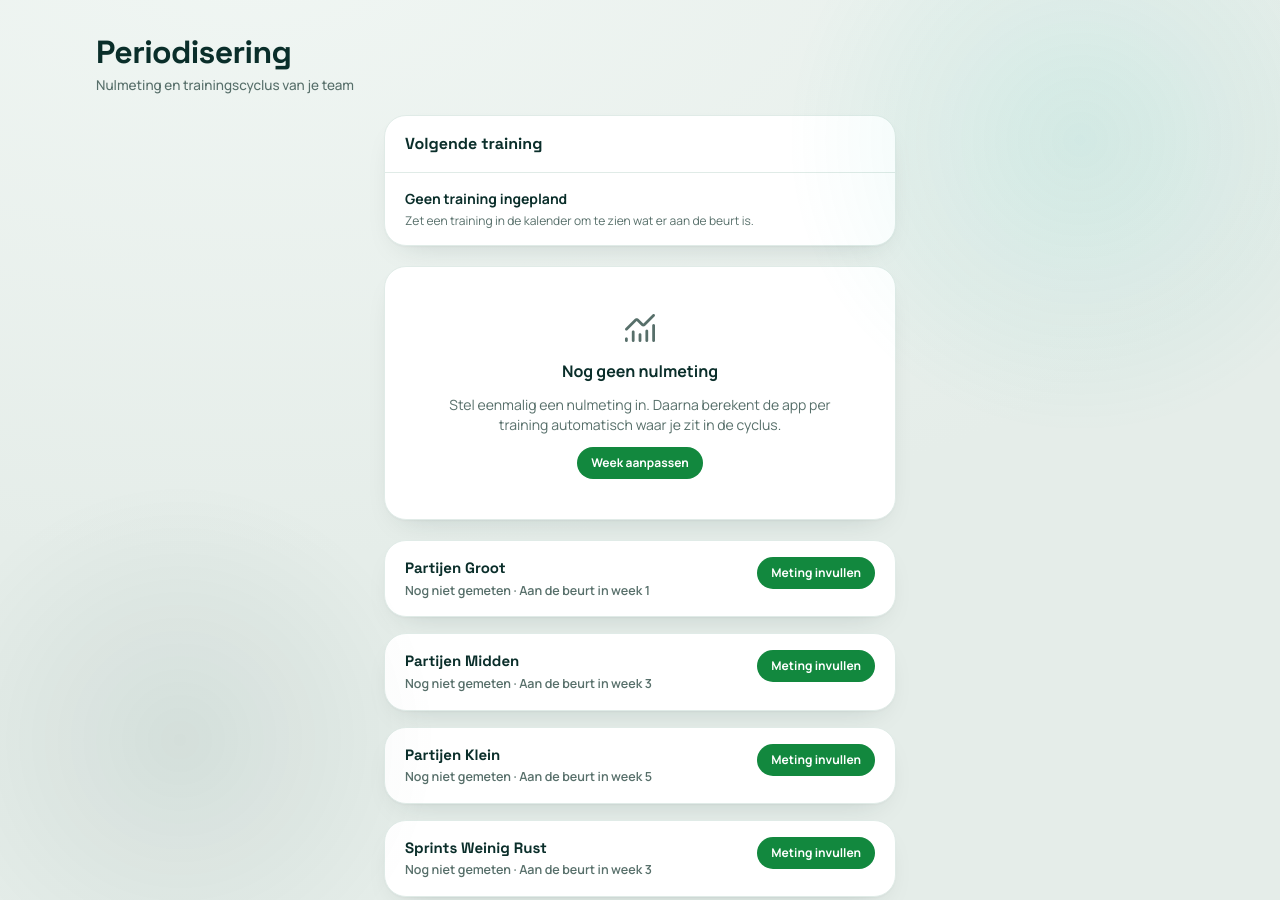
AC6/AC7 — een ongeldige weekwaarde wordt geweigerd, niets wordt opgeslagen › de sheet biedt uitsluitend "Week 1".."Week 6" aan — geen enkele manier om via de UI een waarde buiten 1-6 te kiezen
This screenshot has width=1280, height=900.
What coordinates should you click on to do the following:
click the button "Week aanpassen"
I would click on:
 (640, 463)
Its box is [577,447,703,479].
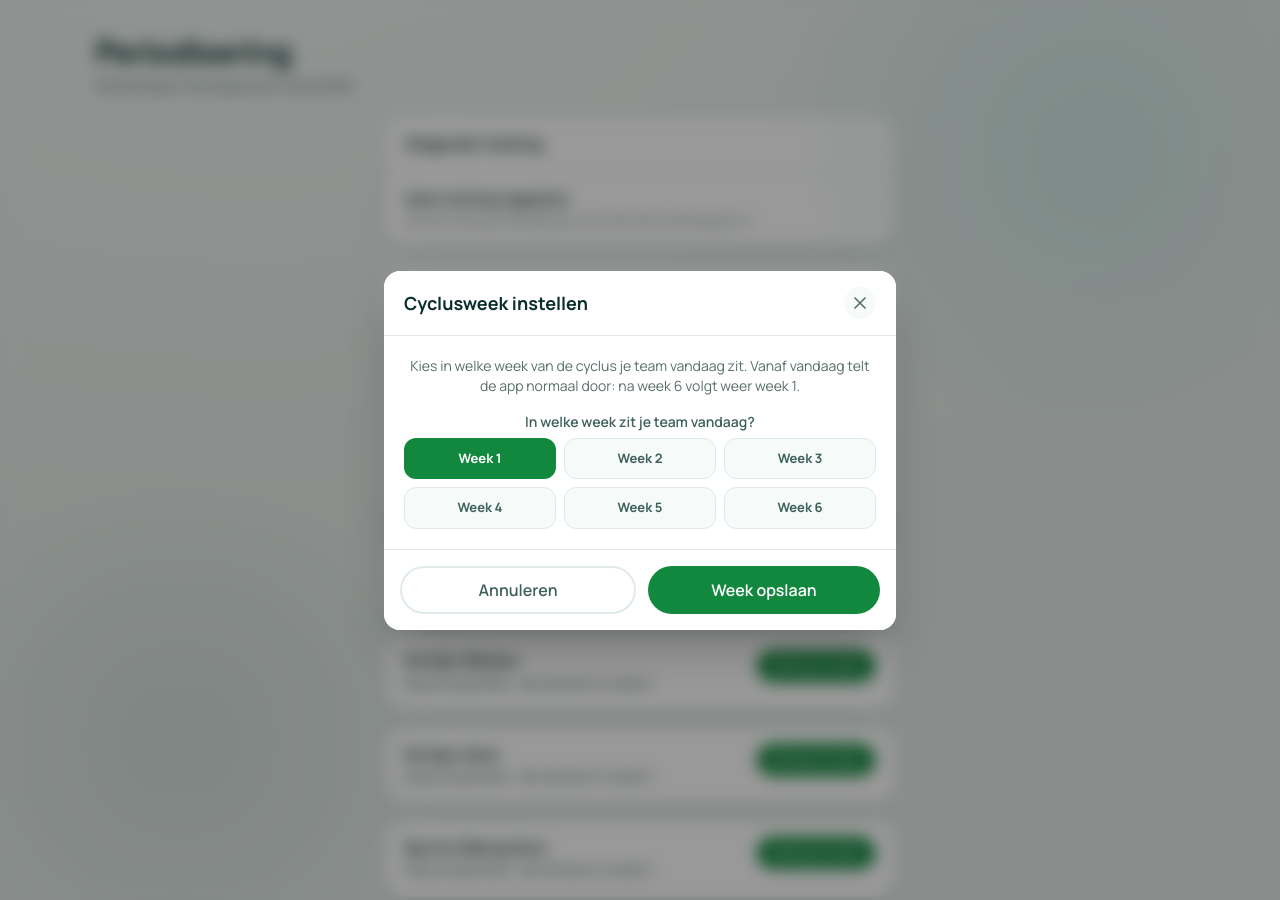
Now the number of radio buttons is 6, box [404,438,556,479]; [564,438,716,479]; [724,438,876,479]; [404,487,556,528]; [564,487,716,528]; [724,487,876,528]
